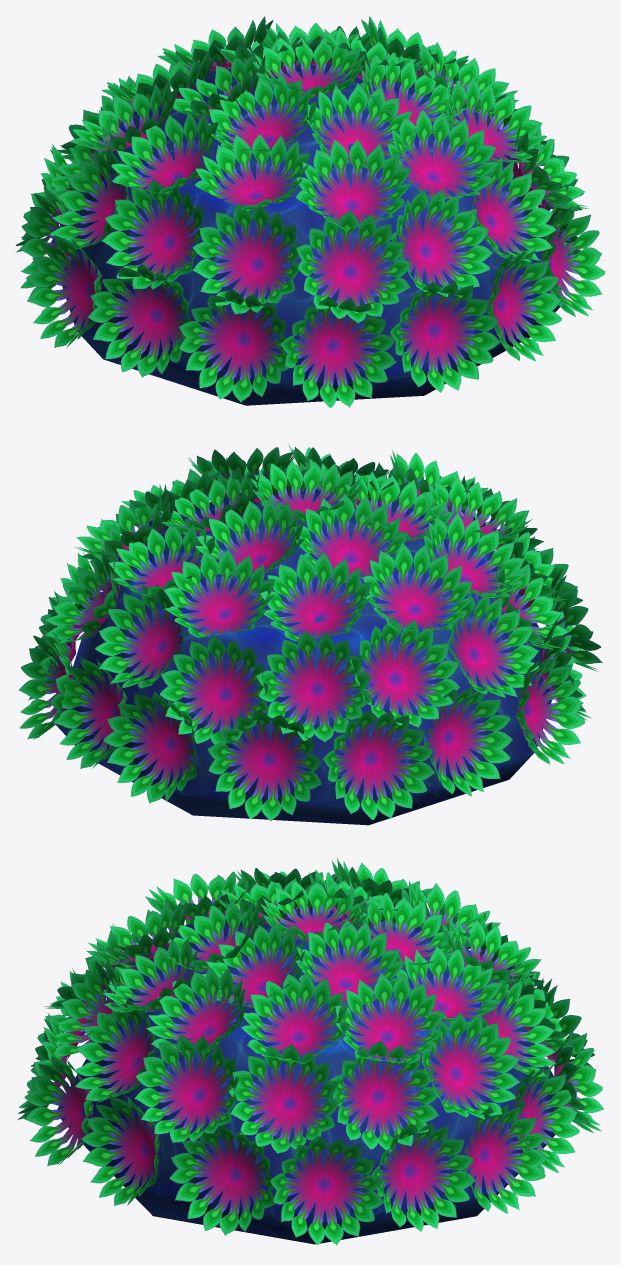
File: Coral_16.FBX
3 renders of one model, top to bottom at view 1: azimuth 30°, elevation 25°; view 2: azimuth 150°, elevation 25°; view 3: azimuth 270°, elevation 25°, orthographic. The views are drawn at different scales.
Parts seen in each view (by area): view 1: w16; view 2: w16; view 3: w16.
Part boxes in pixels (x1,y1,x2,y2): w16: (15,16,604,407); w16: (19,445,602,825); w16: (17,857,603,1244).
Size of the model in its own units: 93.95 by 44.19 by 94.13.
